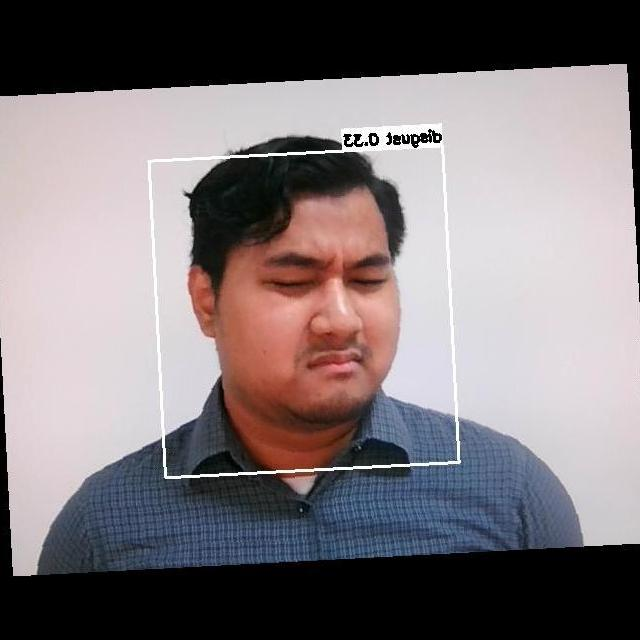Disgust: (229, 221, 402, 401)
